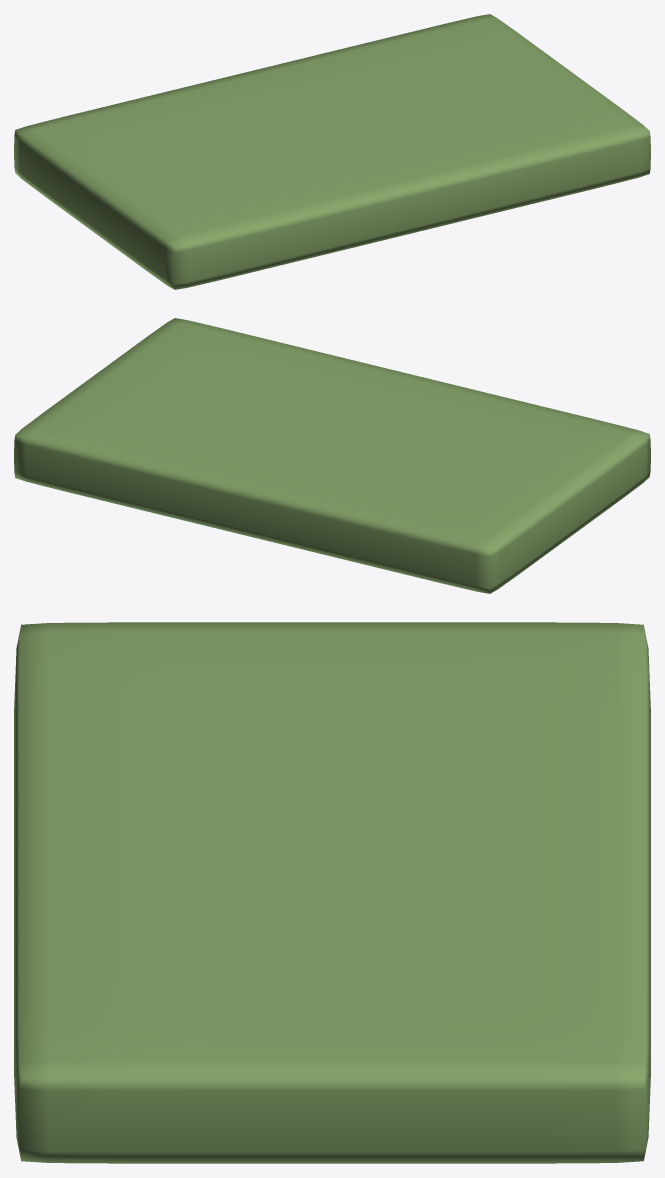
Rendered from sector3.fbx.
The picture shows the model from 3 angles, top to bottom: view 1: azimuth 30°, elevation 25°; view 2: azimuth 150°, elevation 25°; view 3: azimuth 270°, elevation 25°; orthographic projection. The views are drawn at different scales.
Visible parts, largest first — view 1: sector3; view 2: sector3; view 3: sector3.
Boxes of the visible parts, x1,y1,x2,y2 form: sector3: (14, 14, 650, 289); sector3: (14, 318, 650, 593); sector3: (14, 622, 650, 1163).
Size of the model in its own units: 124 by 12.3 by 72.89.
